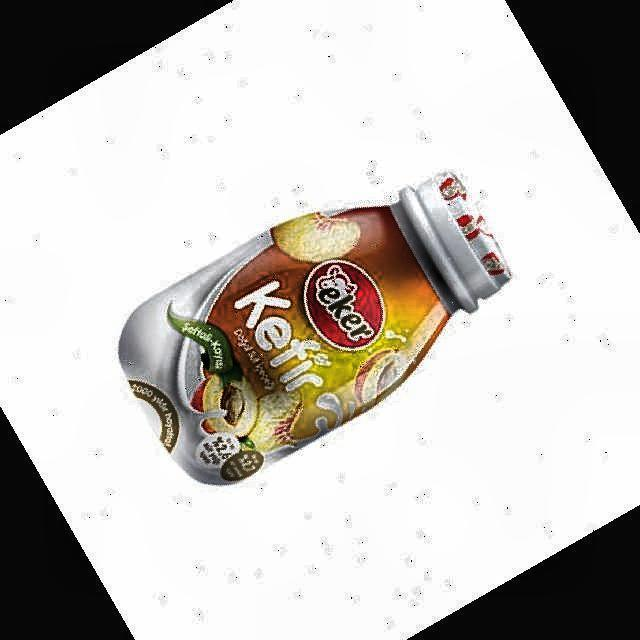plastic: (119, 172, 511, 485)
